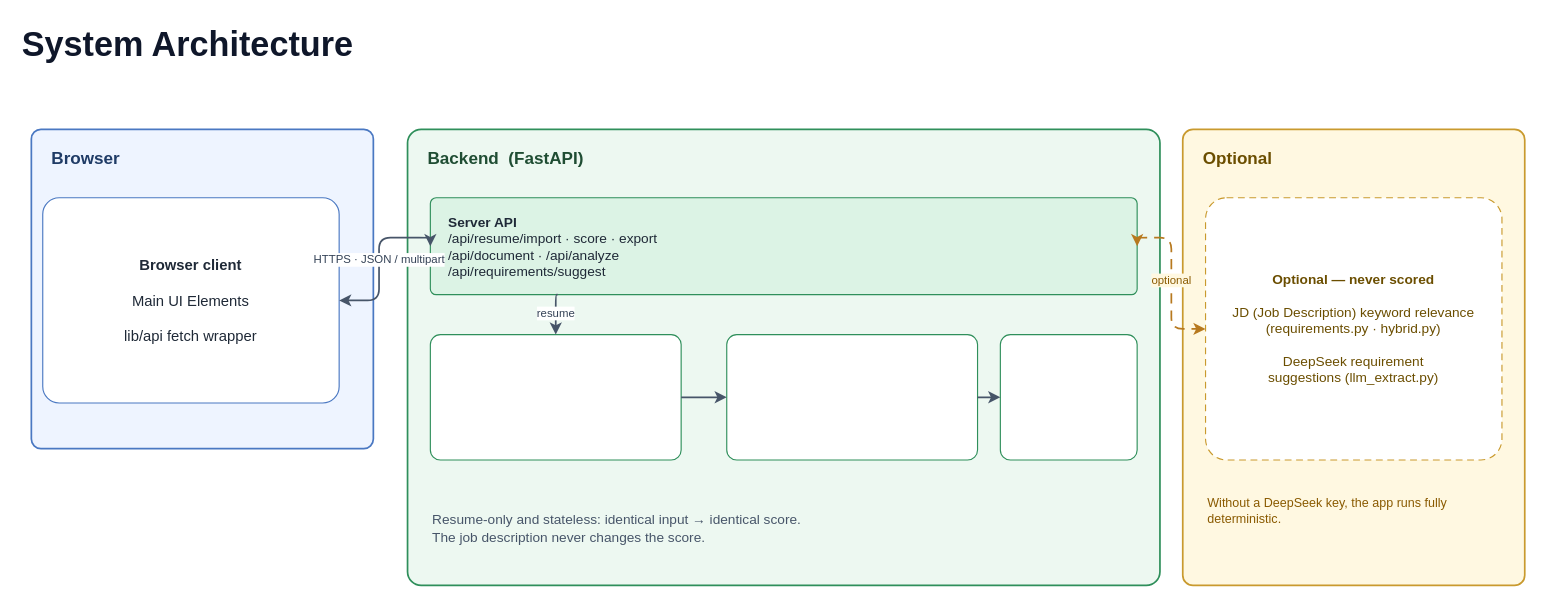
This 1545x605 diagram has some shape labels left out. The centre of each missing label's shape, as x and y in pixels:
1 · Import & parse PDF / DOCX / TXT → canonical resume text: point 555,396
2 · ATS rules deterministic resume-only score 0–100 + grade + recommendations: point 852,396
Export DOCX / TXT: point 1068,396
